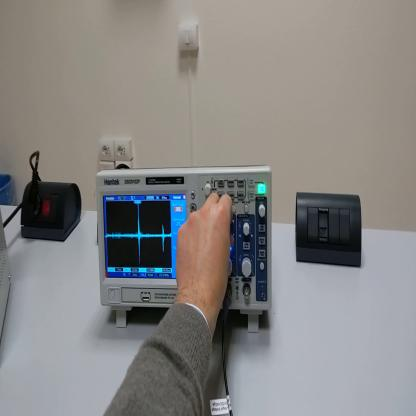hand: (174, 191, 234, 320)
oscilloscope: (98, 152, 276, 330)
power supply: (2, 216, 13, 344)
socket: (18, 179, 84, 246)
